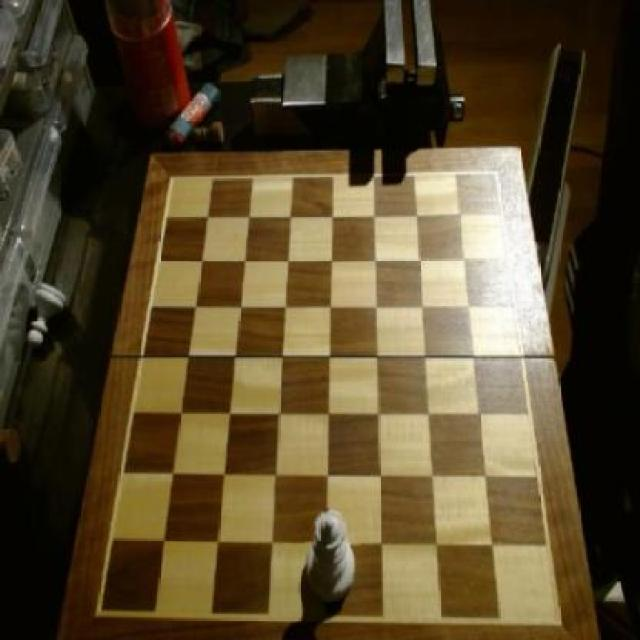white-pawn: (303, 508, 359, 608)
